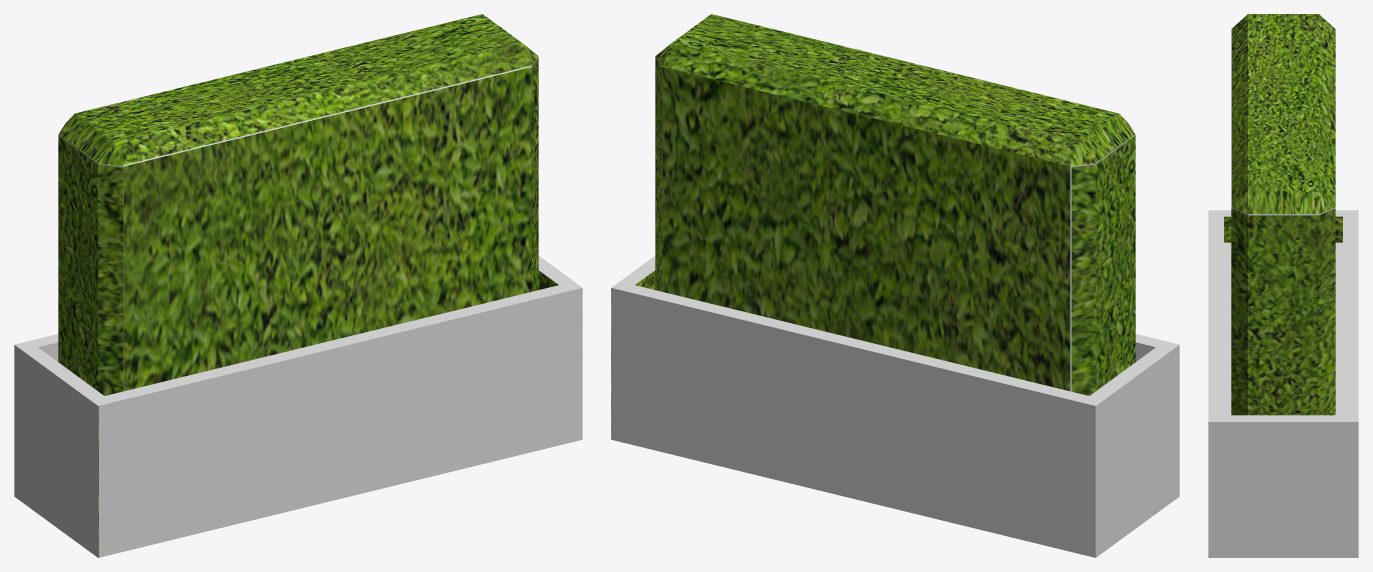
File: krzak.glb
3 renders of one model, left to right at view 1: azimuth 30°, elevation 25°; view 2: azimuth 150°, elevation 25°; view 3: azimuth 270°, elevation 25°, orthographic. The views are drawn at different scales.
Visible parts, largest first — view 1: Cube.014; view 2: Cube.014; view 3: Cube.014.
Part boxes in pixels (left/top/right/bottom): Cube.014: left=14, top=14, right=582, bottom=557; Cube.014: left=611, top=14, right=1179, bottom=557; Cube.014: left=1208, top=14, right=1358, bottom=557.
Size of the model in its own units: 4.99 by 3.84 by 1.5.
Materials: 1 (1 with a texture image).
